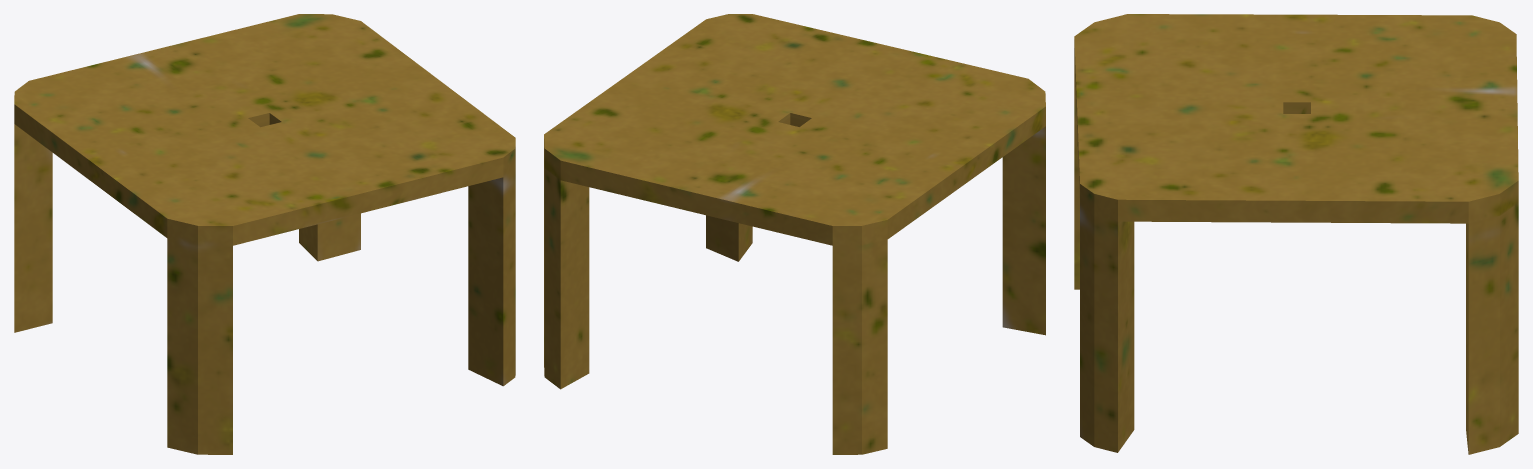
The model's file is Table_1.fbx.
The picture shows the model from 3 angles, left to right: view 1: azimuth 30°, elevation 25°; view 2: azimuth 150°, elevation 25°; view 3: azimuth 270°, elevation 25°; orthographic projection. The views are drawn at different scales.
Visible parts, largest first — view 1: GambleTable_1; view 2: GambleTable_1; view 3: GambleTable_1.
Boxes of the visible parts, x1,y1,x2,y2 form: GambleTable_1: [14, 14, 515, 454]; GambleTable_1: [544, 14, 1045, 454]; GambleTable_1: [1074, 14, 1518, 454].
Bounding box in the file's own units: 160 × 101 × 160.
